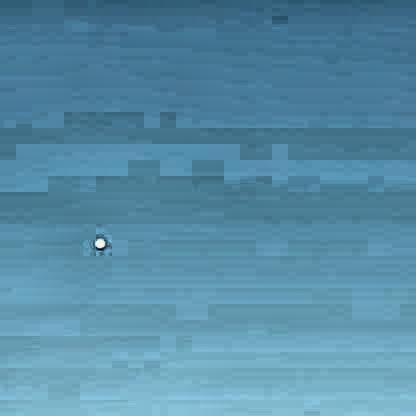golfball: (92, 235, 106, 249)
